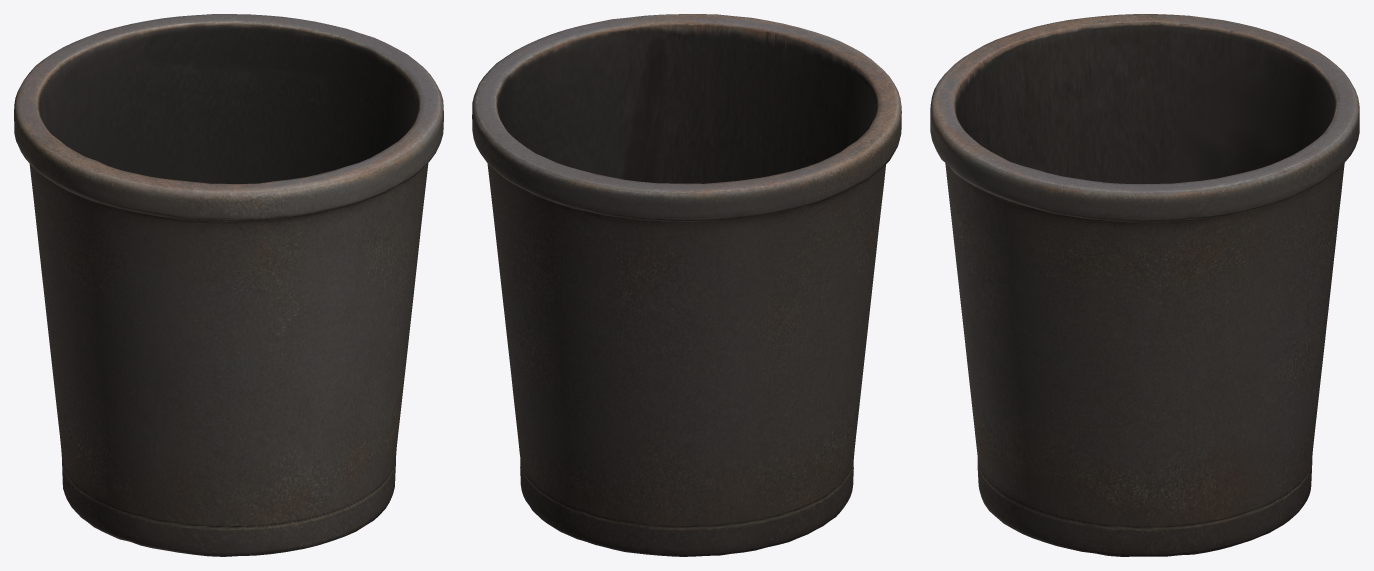
Rendered from Prop_TrashBin.fbx.
3 views of the same model, side by side, from view 1: azimuth 30°, elevation 25°; view 2: azimuth 150°, elevation 25°; view 3: azimuth 270°, elevation 25° (orthographic).
Parts seen in each view (by area): view 1: texture_mapping; view 2: texture_mapping; view 3: texture_mapping.
Boxes of the visible parts, x1=… form: texture_mapping: x1=14, y1=14, x2=443, y2=556; texture_mapping: x1=472, y1=14, x2=901, y2=556; texture_mapping: x1=930, y1=14, x2=1359, y2=556.
Size of the model in its own units: 1 by 1 by 0.9919.
Materials: 1 (1 with a texture image).
